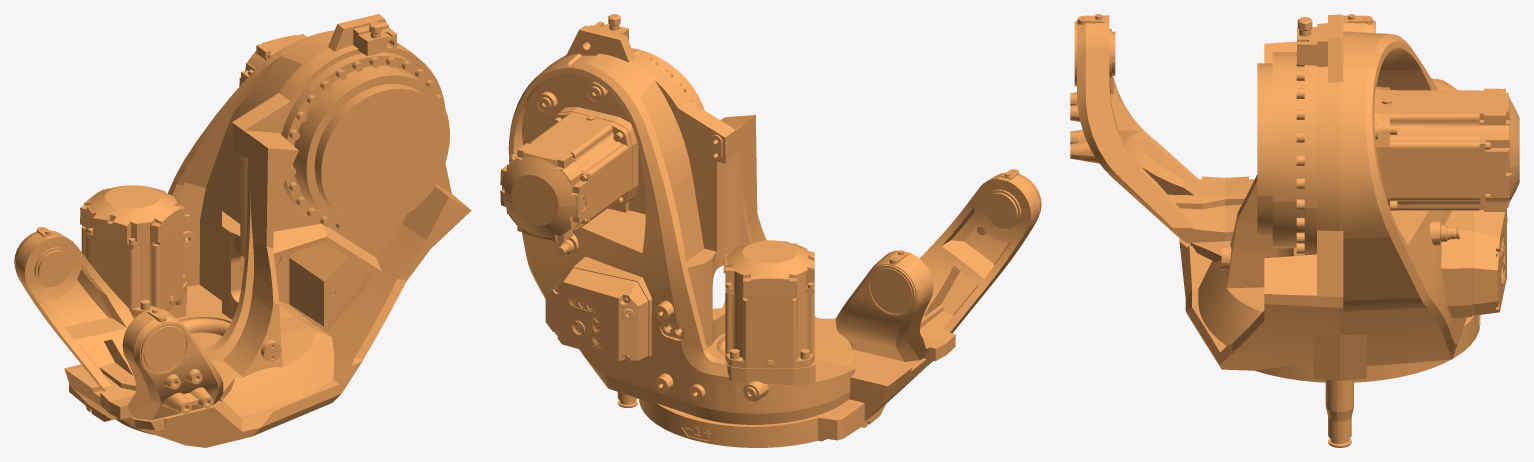
The picture shows the model from 3 angles, left to right: view 1: azimuth 30°, elevation 25°; view 2: azimuth 150°, elevation 25°; view 3: azimuth 270°, elevation 25°; orthographic projection. The views are drawn at different scales.
Visible parts, largest first — view 1: mesh_0; view 2: mesh_0; view 3: mesh_0.
Boxes of the visible parts, x1=… form: mesh_0: x1=14, y1=14, x2=471, y2=447; mesh_0: x1=500, y1=14, x2=1041, y2=447; mesh_0: x1=1070, y1=14, x2=1519, y2=447.
Bounding box in the file's own units: 0.9667 × 0.822 × 0.76.
